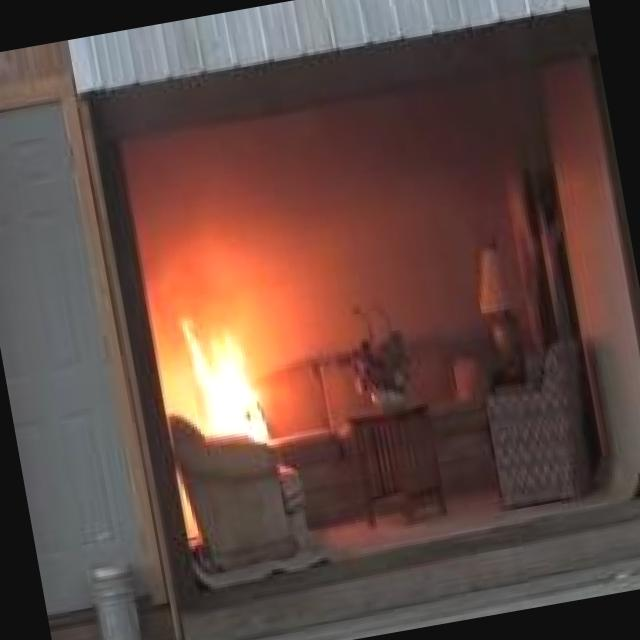fire: (154, 268, 278, 442)
